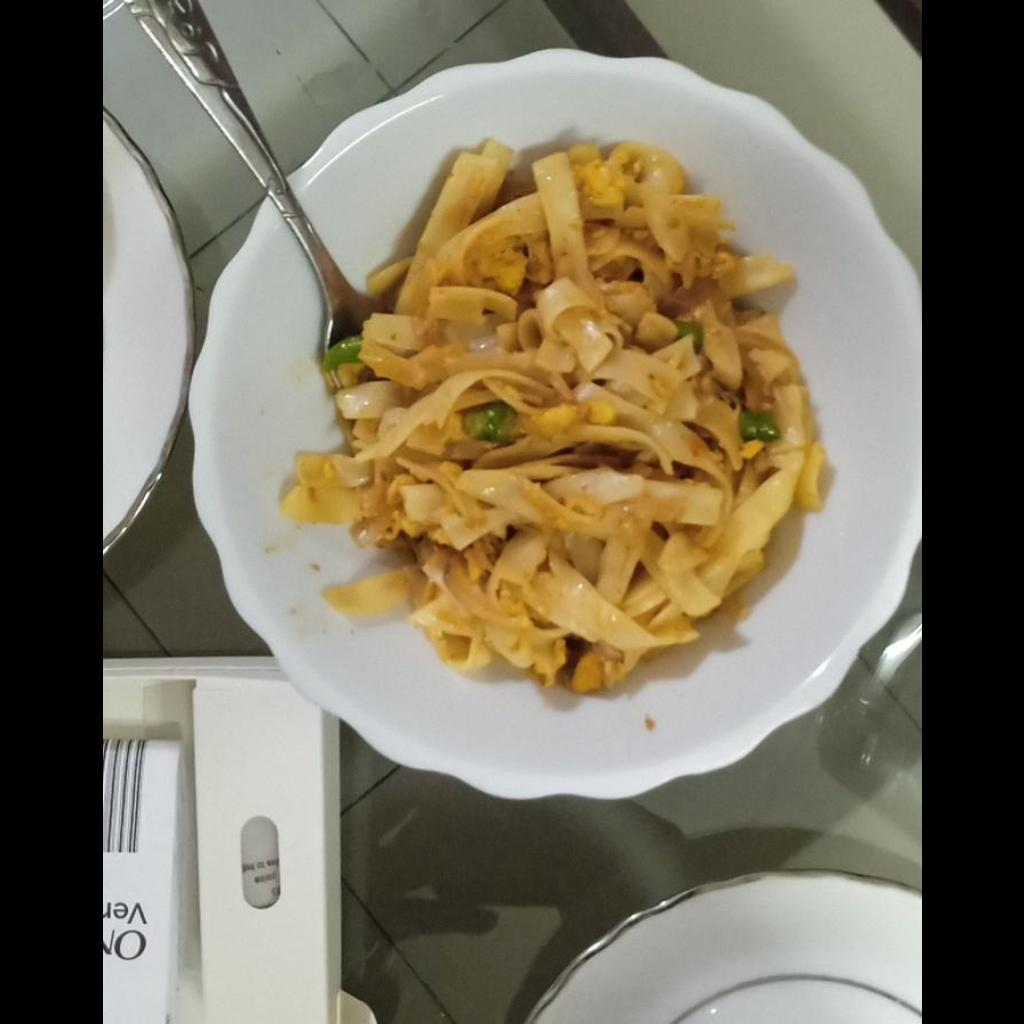noodles: (282, 139, 822, 693)
